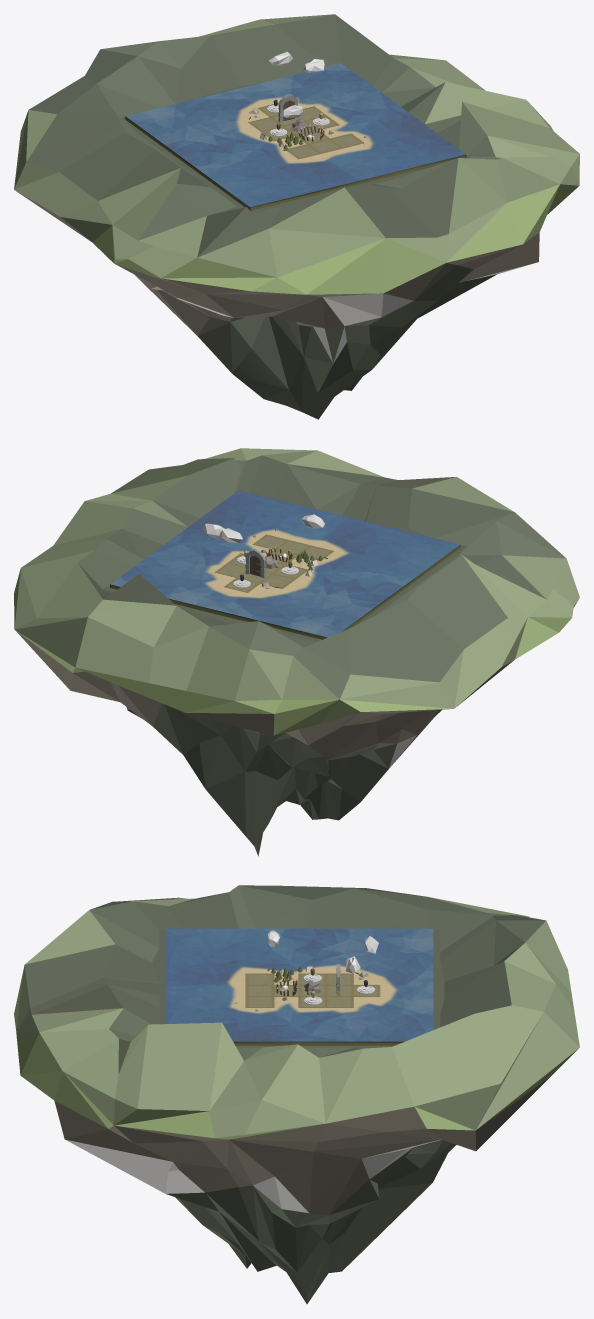
The model's file is Level3.fbx.
3 views of the same model, one above another, from view 1: azimuth 30°, elevation 25°; view 2: azimuth 150°, elevation 25°; view 3: azimuth 270°, elevation 25° (orthographic). The views are drawn at different scales.
Parts seen in each view (by area): view 1: Island, pCube1; view 2: Island, pCube1; view 3: Island, pCube1.
Boxes of the visible parts, <box> form: Island: <box>14,14,579,419</box>; pCube1: <box>125,63,466,210</box>; Island: <box>14,448,579,856</box>; pCube1: <box>110,490,460,639</box>; Island: <box>14,885,579,1303</box>; pCube1: <box>166,928,433,1045</box>.
Bounding box in the file's own units: 4099 × 2895 × 4089.
